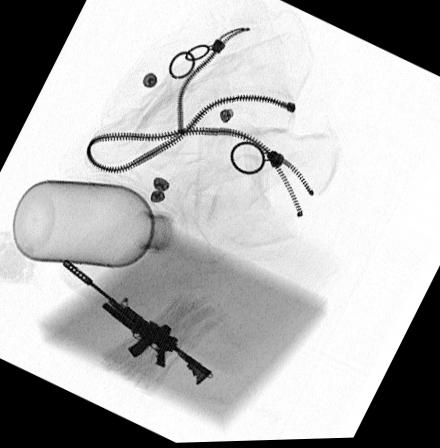Gun: (56, 256, 214, 388)
